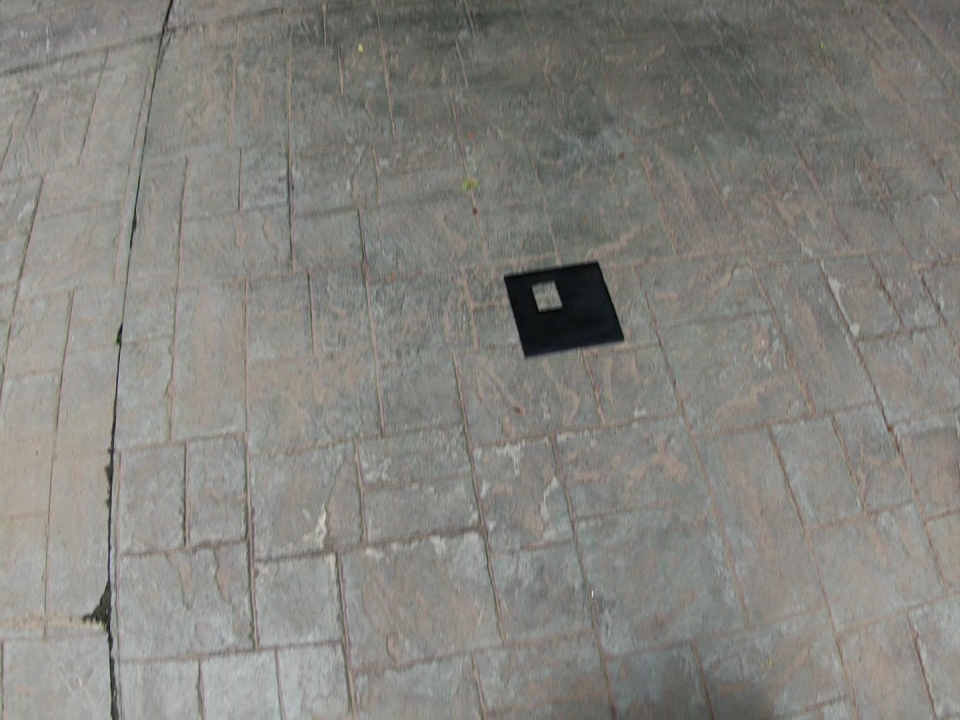qrcode: (504, 261, 622, 356)
